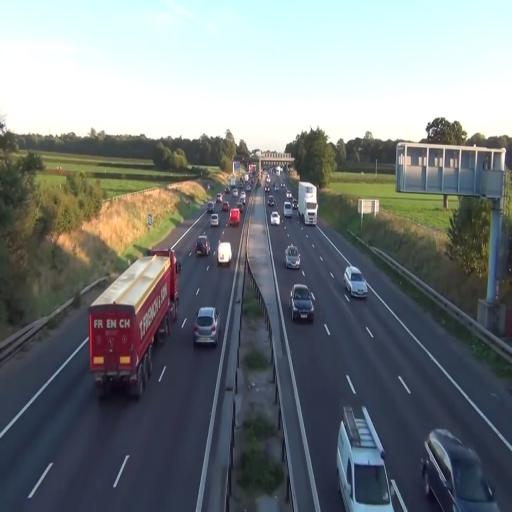vehicle: (87, 249, 179, 400), (88, 249, 179, 401), (421, 428, 499, 510), (336, 402, 394, 511), (290, 282, 315, 324), (194, 306, 220, 346), (298, 180, 318, 226), (298, 181, 318, 226), (344, 266, 368, 299), (284, 244, 302, 270), (217, 240, 231, 266), (195, 234, 210, 256), (228, 207, 242, 227), (208, 211, 222, 227), (270, 208, 280, 226)
